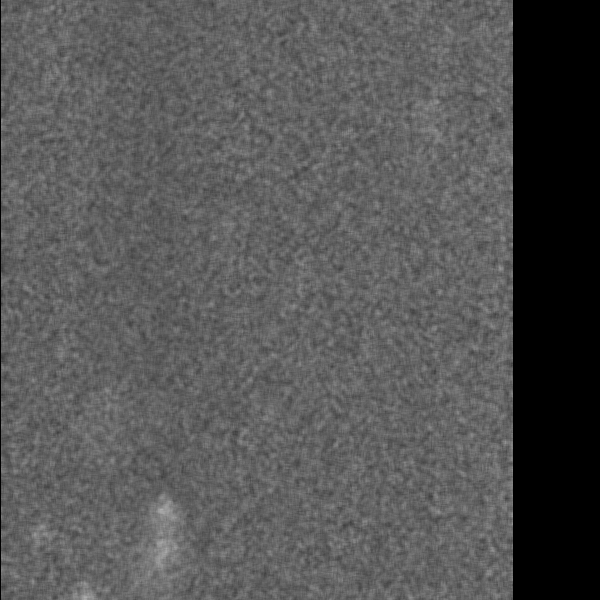spark: (145, 489, 177, 599), (76, 582, 93, 600)
